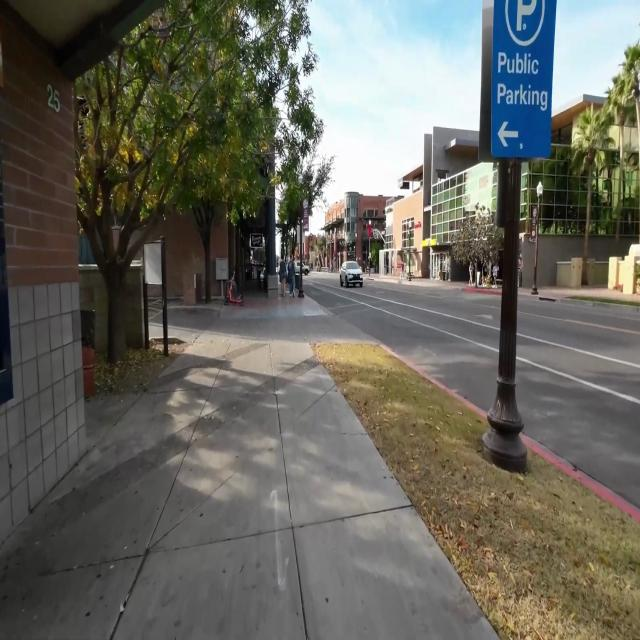road: (304, 274, 502, 414), (516, 294, 640, 444)
side walk: (0, 306, 500, 639)
street sign: (488, 0, 557, 424)
